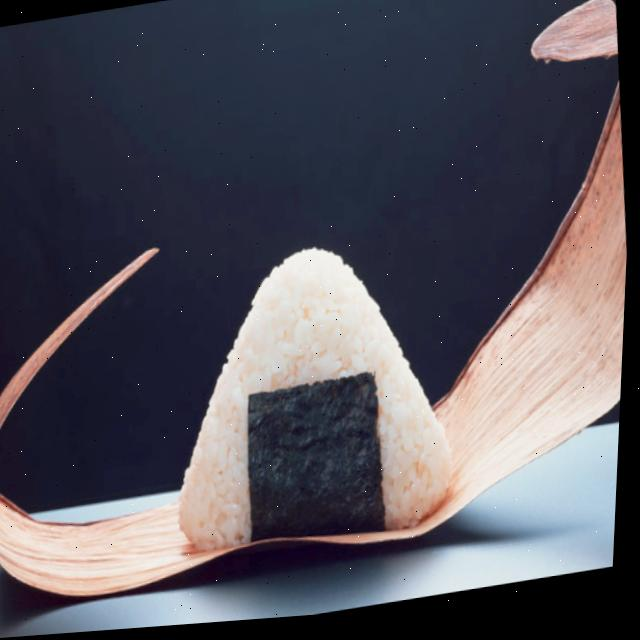米饭主食: (135, 209, 482, 576)
